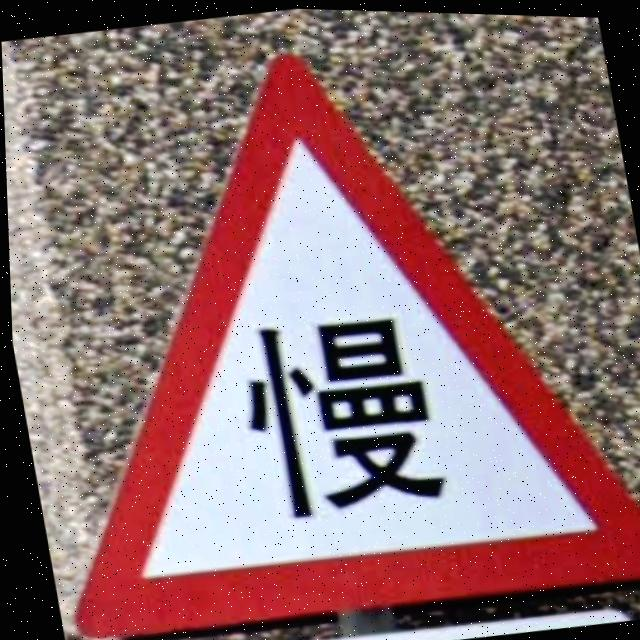slow: (70, 54, 640, 640)
